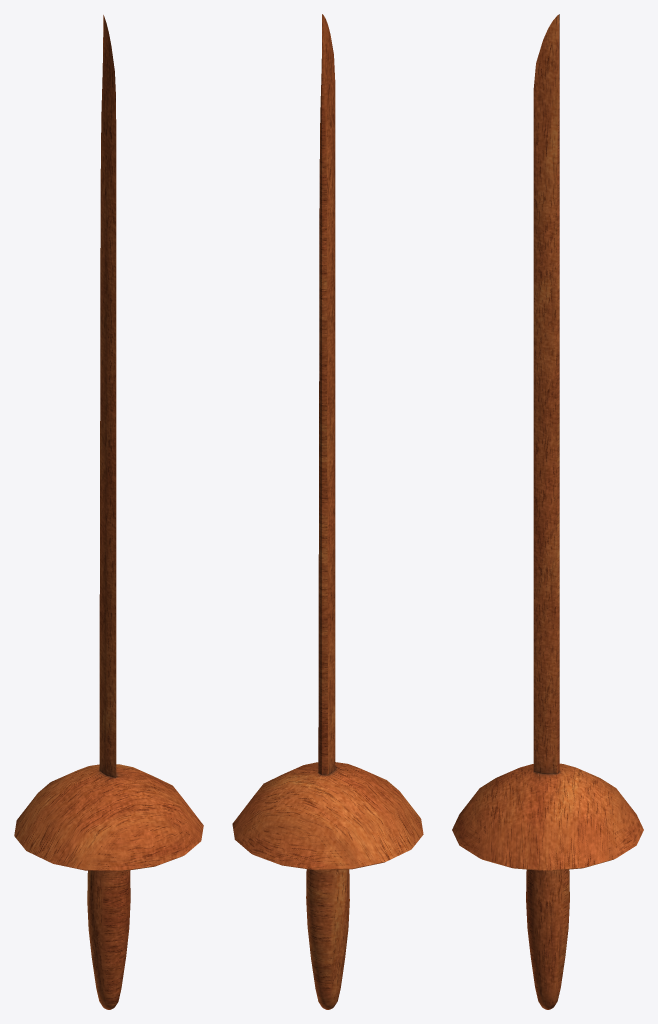
The model's file is SM_FencingSword.fbx.
3 views of the same model, side by side, from view 1: azimuth 30°, elevation 25°; view 2: azimuth 150°, elevation 25°; view 3: azimuth 270°, elevation 25° (orthographic).
Visible parts, largest first — view 1: SM_FencingSword; view 2: SM_FencingSword; view 3: SM_FencingSword.
Part boxes in pixels (x1=…): SM_FencingSword: x1=14, y1=15, x2=203, y2=1009; SM_FencingSword: x1=232, y1=14, x2=423, y2=1009; SM_FencingSword: x1=452, y1=14, x2=643, y2=1009.
Bounding box in the file's own units: 17.84 × 102 × 17.84.
